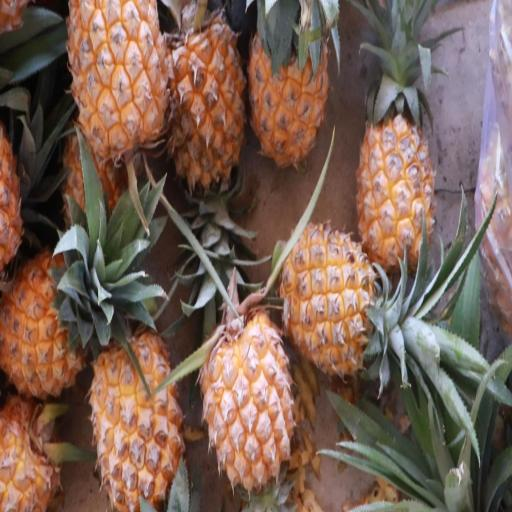Pineapple - v8 v1: (352, 33, 440, 275), (65, 0, 173, 185), (198, 305, 298, 497), (84, 324, 185, 512), (280, 220, 394, 384), (156, 4, 251, 195), (246, 0, 333, 173), (0, 232, 89, 400)
